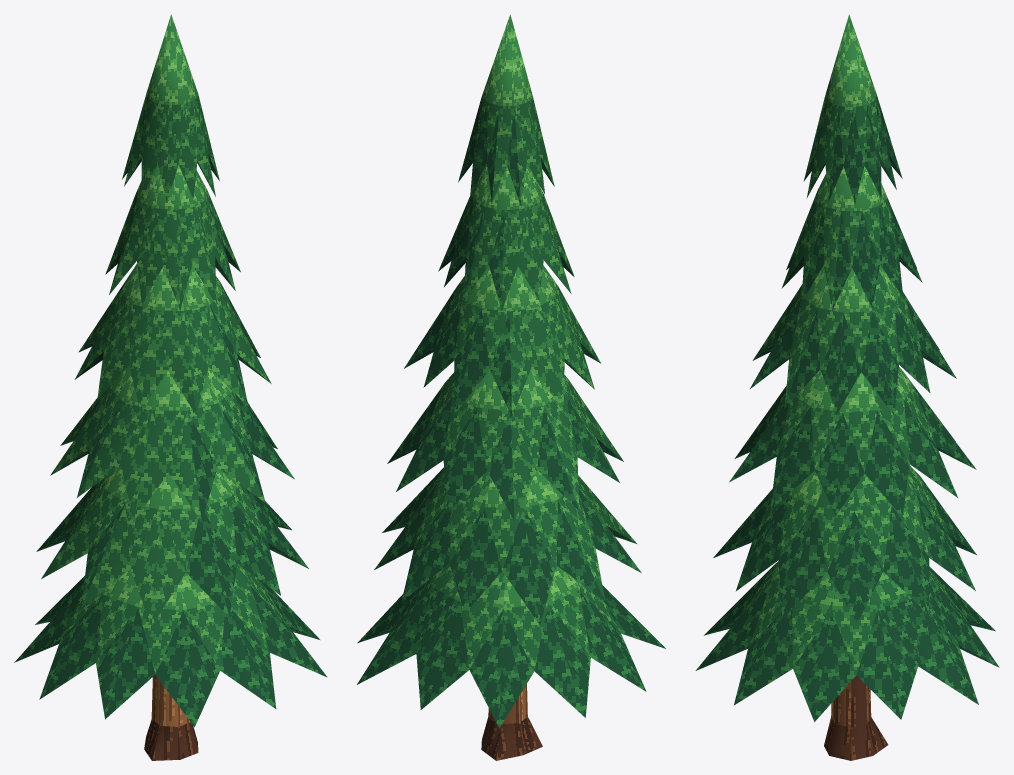
The model's file is tree_pine_b.glb.
3 renders of one model, left to right at view 1: azimuth 30°, elevation 25°; view 2: azimuth 150°, elevation 25°; view 3: azimuth 270°, elevation 25°, orthographic.
Parts seen in each view (by area): view 1: tree_pine_b; view 2: tree_pine_b; view 3: tree_pine_b.
Part boxes in pixels (x1,y1,x2,y2): tree_pine_b: (14, 14, 327, 760); tree_pine_b: (357, 14, 665, 760); tree_pine_b: (695, 14, 999, 760).
Bounding box in the file's own units: 3.28 × 8.65 × 3.26.
Materials: 1 (1 with a texture image).
